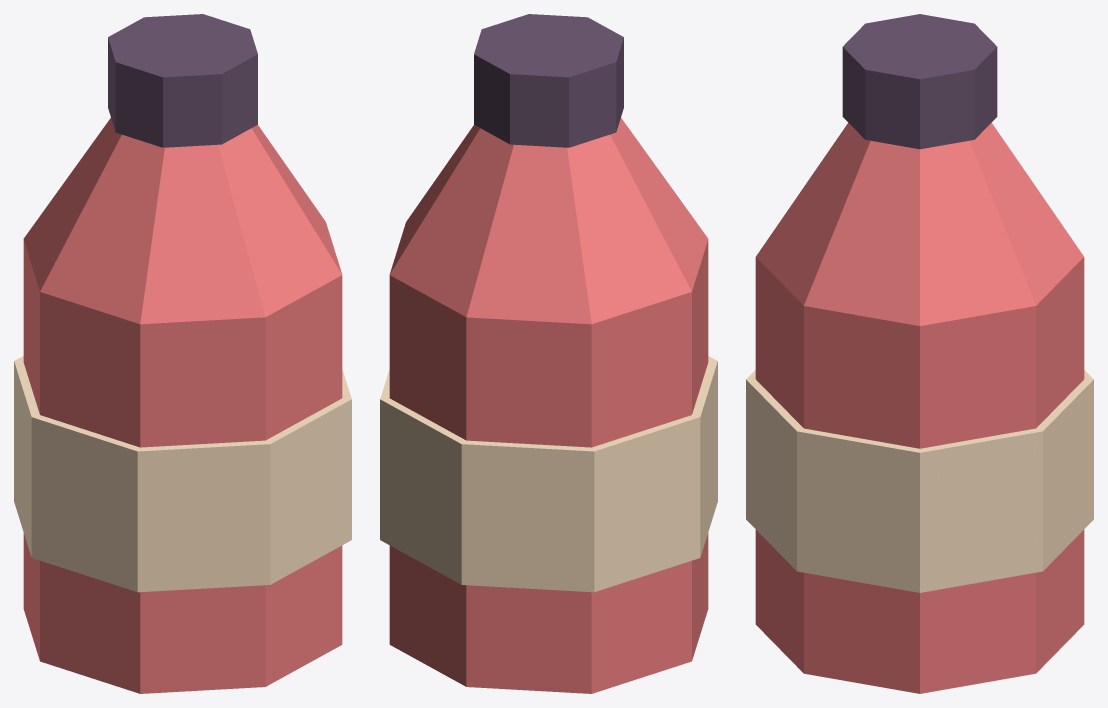
The model's file is bottle.glb.
3 renders of one model, left to right at view 1: azimuth 30°, elevation 25°; view 2: azimuth 150°, elevation 25°; view 3: azimuth 270°, elevation 25°, orthographic.
Parts seen in each view (by area): view 1: Body, Band, Neck, Cap; view 2: Body, Band, Neck, Cap; view 3: Body, Band, Neck, Cap.
Part boxes in pixels (x1=…): Body: x1=23, y1=240, x2=342, y2=693; Band: x1=14, y1=356, x2=351, y2=592; Neck: x1=23, y1=118, x2=342, y2=324; Cap: x1=108, y1=14, x2=257, y2=147; Body: x1=389, y1=240, x2=708, y2=693; Band: x1=380, y1=356, x2=717, y2=592; Neck: x1=389, y1=118, x2=708, y2=324; Cap: x1=474, y1=14, x2=623, y2=147; Body: x1=755, y1=257, x2=1084, y2=693; Band: x1=746, y1=370, x2=1093, y2=592; Neck: x1=756, y1=122, x2=1083, y2=325; Cap: x1=842, y1=14, x2=997, y2=149.
Bounding box in the file's own units: 0.36 × 0.66 × 0.36.
